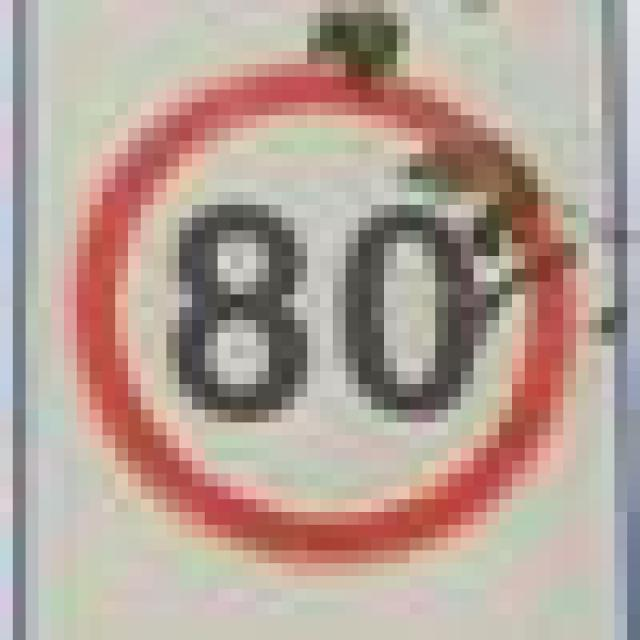speed_limit_50: (64, 52, 563, 550)
